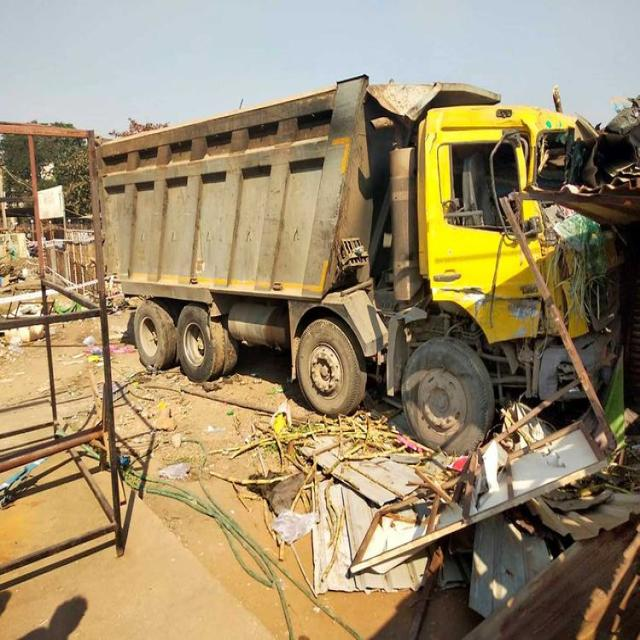truck: (100, 77, 575, 453)
